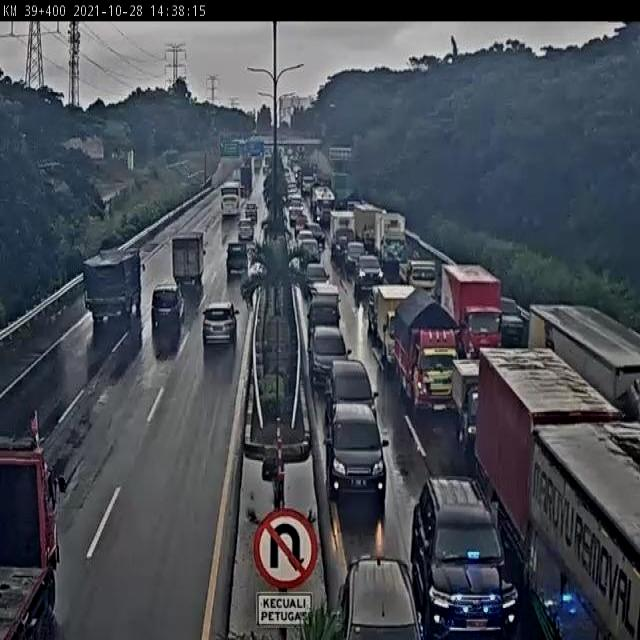Car: (410, 479, 517, 638), (337, 554, 427, 639), (326, 402, 388, 505), (327, 358, 378, 432), (308, 323, 348, 392), (151, 284, 185, 338), (202, 301, 238, 346), (354, 254, 384, 299), (308, 290, 342, 329), (404, 259, 437, 293), (226, 242, 249, 280), (303, 262, 330, 291), (344, 242, 364, 276), (298, 229, 318, 253), (288, 203, 304, 228), (238, 218, 254, 242), (284, 166, 297, 193), (244, 202, 258, 222), (512, 4, 539, 4)
Truck: (475, 349, 624, 552), (0, 417, 63, 639), (389, 291, 463, 411), (439, 262, 502, 348), (82, 248, 142, 327), (371, 284, 416, 368), (171, 233, 207, 294), (353, 203, 388, 255), (220, 182, 241, 218), (332, 239, 347, 267), (313, 172, 331, 190), (318, 204, 332, 226), (264, 143, 277, 161), (302, 177, 314, 196), (232, 169, 242, 189), (241, 152, 251, 170), (286, 148, 293, 159)
